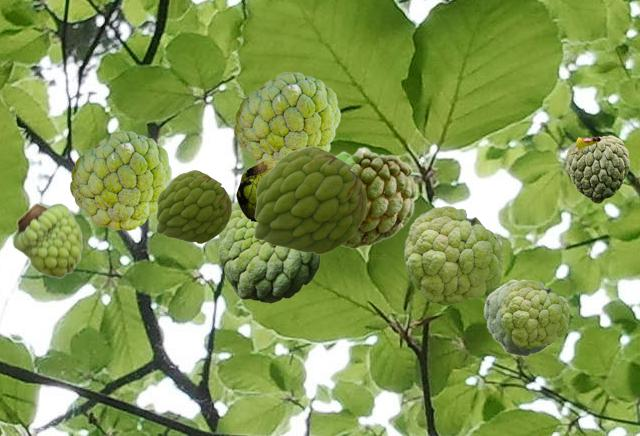atis: (254, 146, 365, 253), (218, 201, 319, 302), (70, 131, 170, 229), (404, 206, 502, 304), (234, 72, 339, 163), (335, 146, 416, 248), (483, 279, 558, 355), (156, 170, 230, 242), (12, 202, 82, 278), (500, 280, 568, 347), (565, 135, 628, 202), (236, 159, 277, 222)
